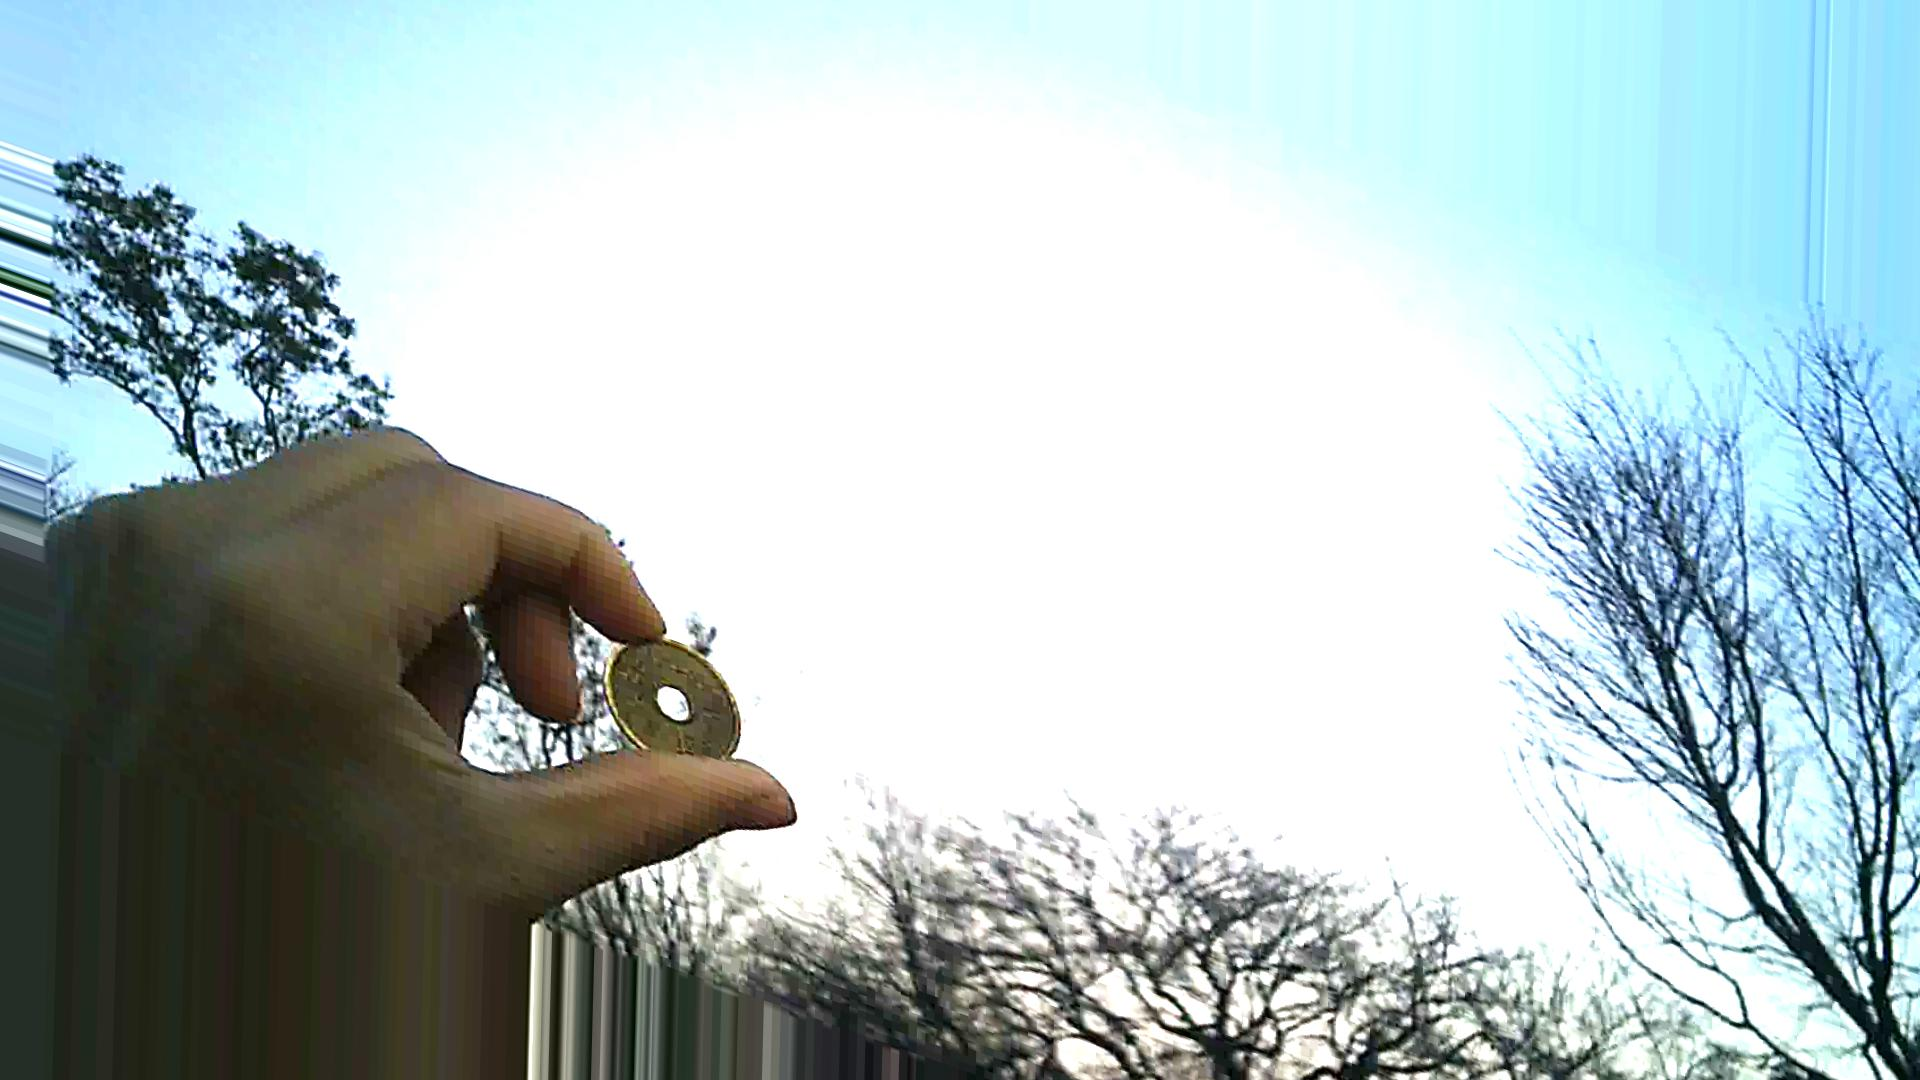5 Yen: (604, 634, 760, 790)
